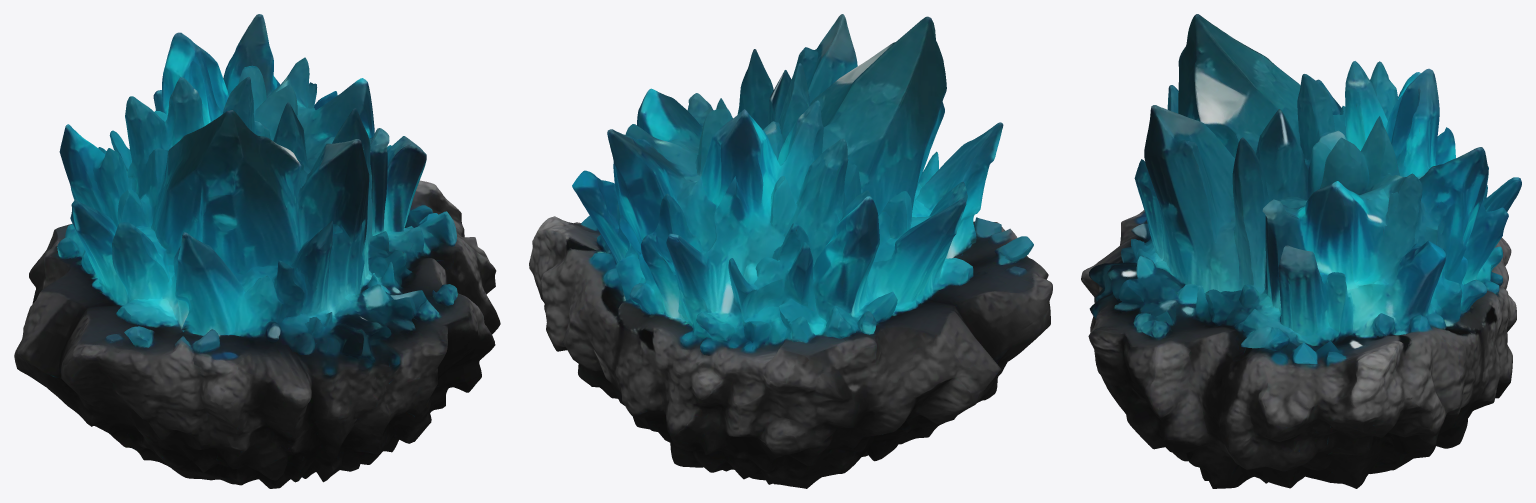
File: mineral.glb
The picture shows the model from 3 angles, left to right: view 1: azimuth 30°, elevation 25°; view 2: azimuth 150°, elevation 25°; view 3: azimuth 270°, elevation 25°; orthographic projection.
Parts seen in each view (by area): view 1: geometry_0; view 2: geometry_0; view 3: geometry_0.
Boxes of the visible parts, <box> form: geometry_0: <box>14,14,500,488</box>; geometry_0: <box>529,14,1052,488</box>; geometry_0: <box>1081,14,1521,488</box>.
Bounding box in the file's own units: 1.53 × 1.29 × 1.3.
1 material, 1 textured.
